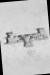N31: (2, 0, 49, 74)
